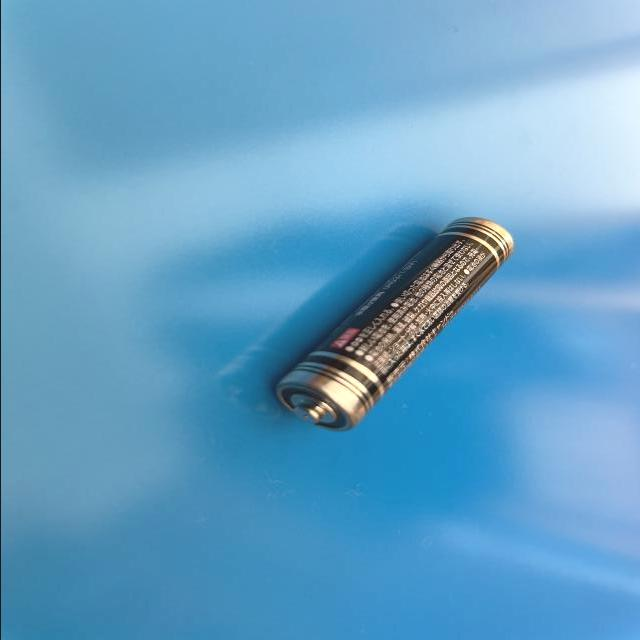AAA: (268, 216, 516, 433)
